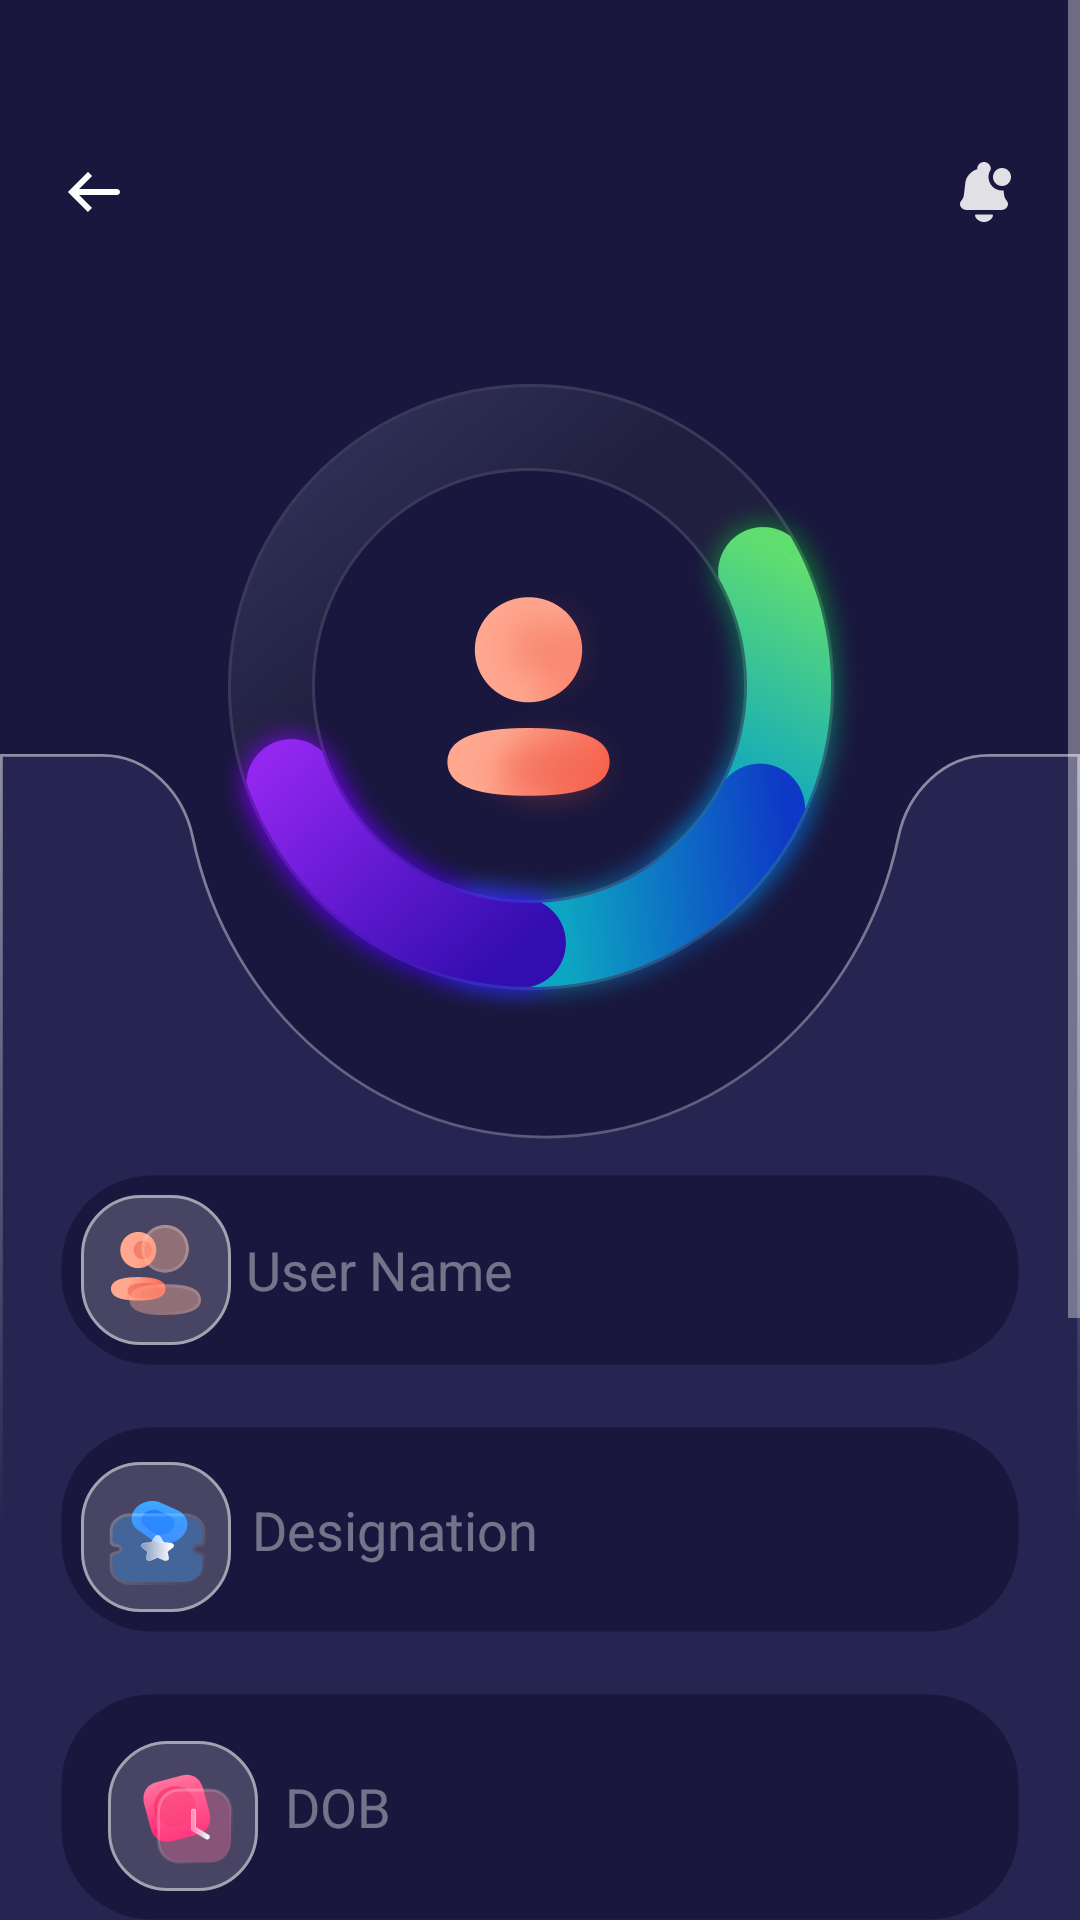

Point at icon controls on the screen. Image size 1080x1920, points as (x=x, y=y).
arrow left: (x=94, y=192)
notification: (x=985, y=192)
